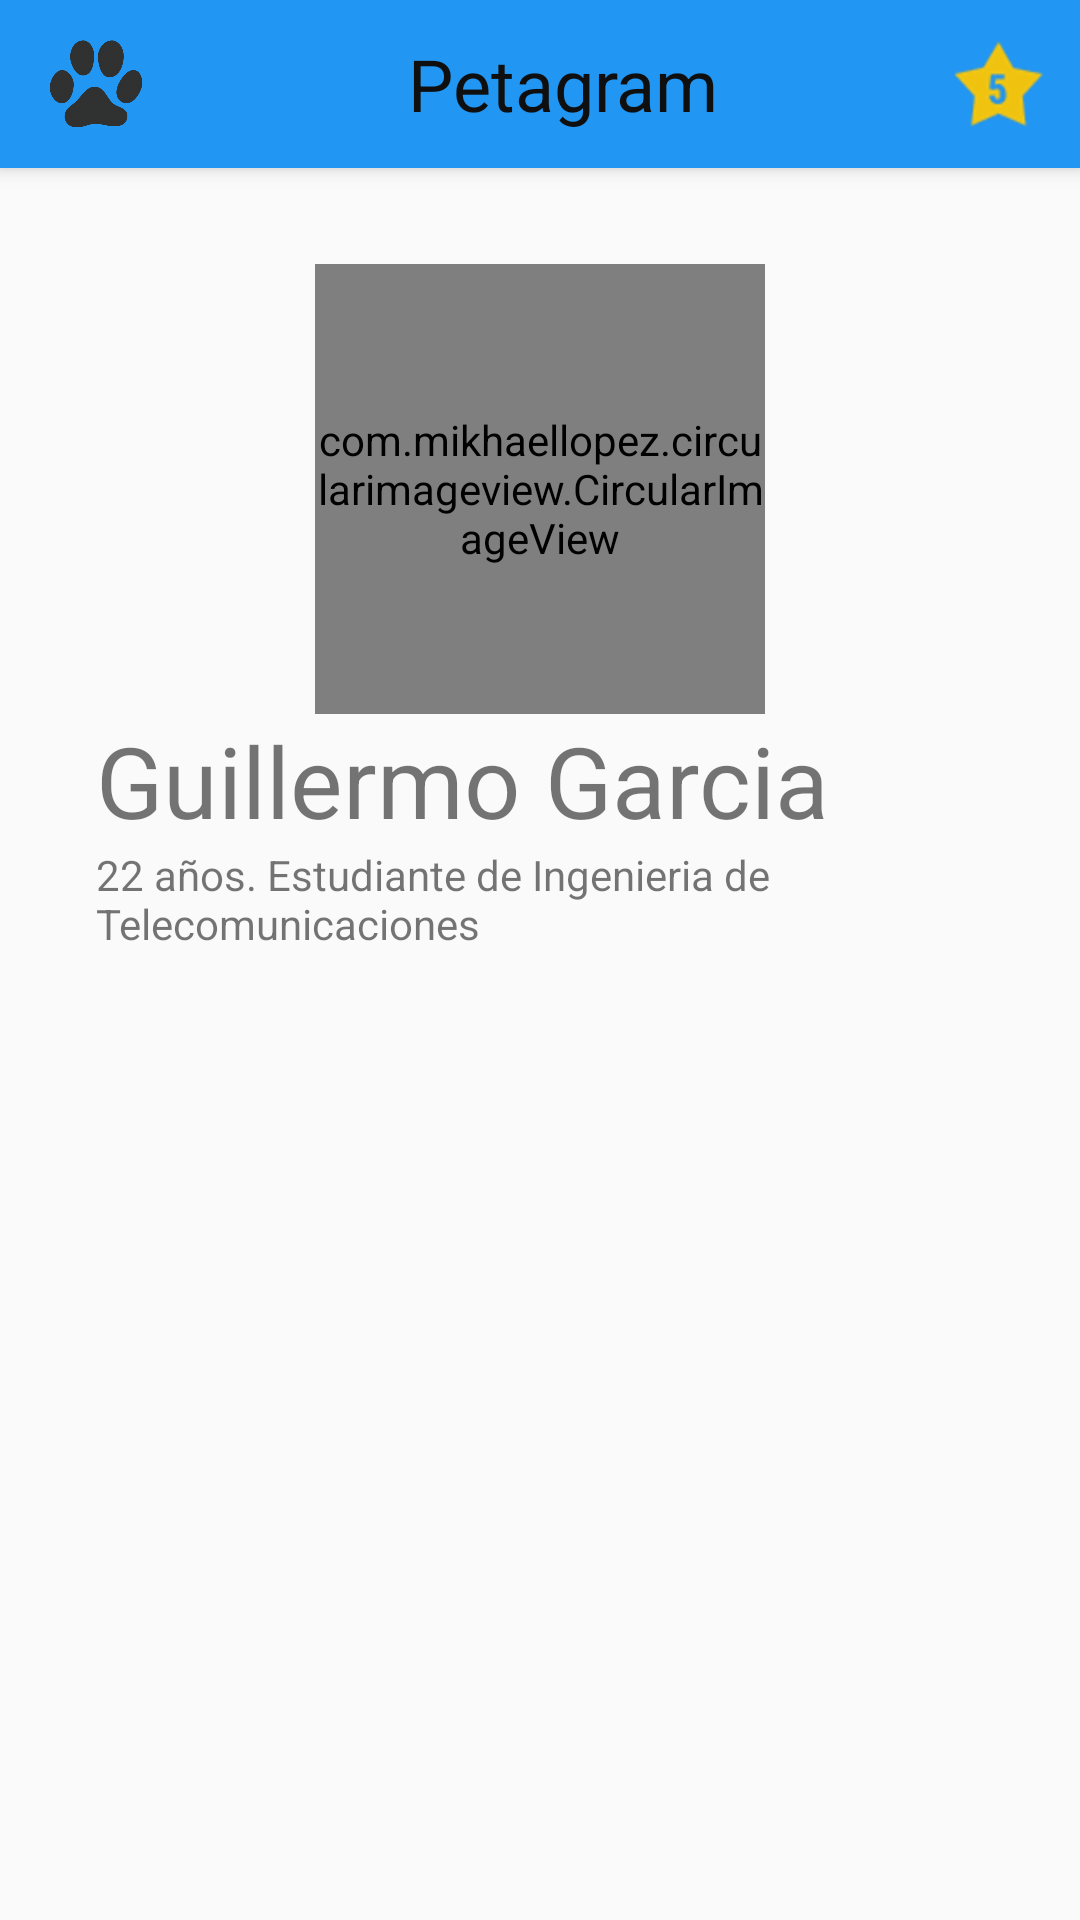

Named icons in this screenshot (1080 x 1920) and their bounding boxes, BBox(x1, y1, x2, y2):
fav: BBox(954, 42, 1043, 127)
huella: BBox(50, 40, 142, 127)
